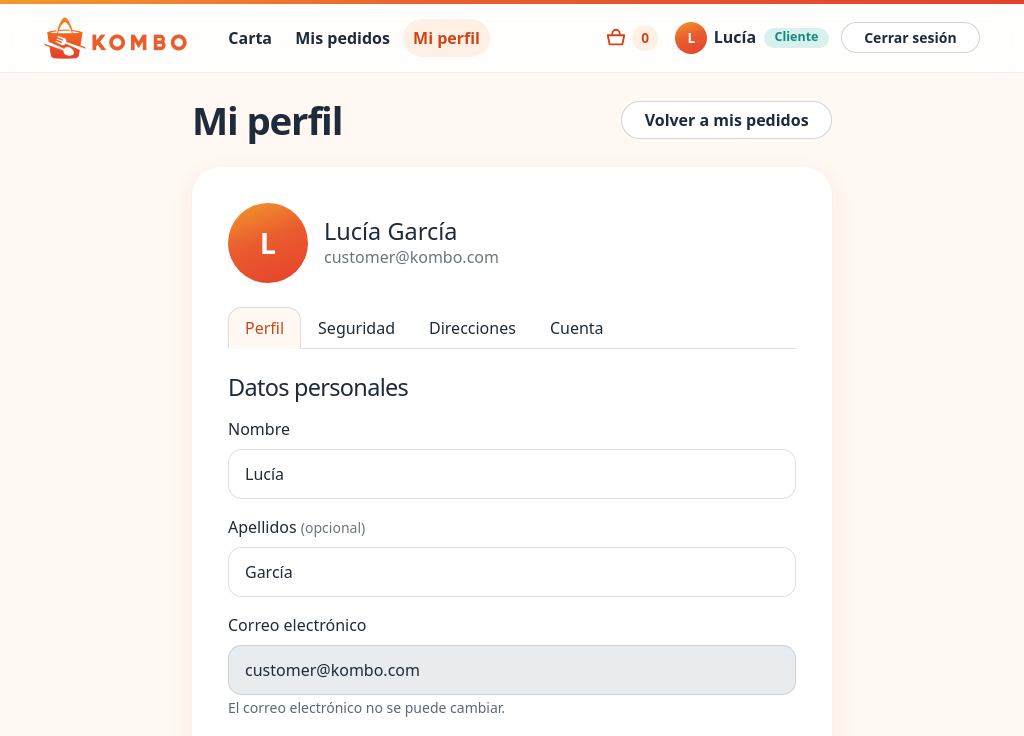
ProfileSettingsPage › shows an error when the data cannot be saved
Replace the text in the field labelled "Nombre" with "Ana" at (512, 474), box [228,449,796,499]
(page scrolled)
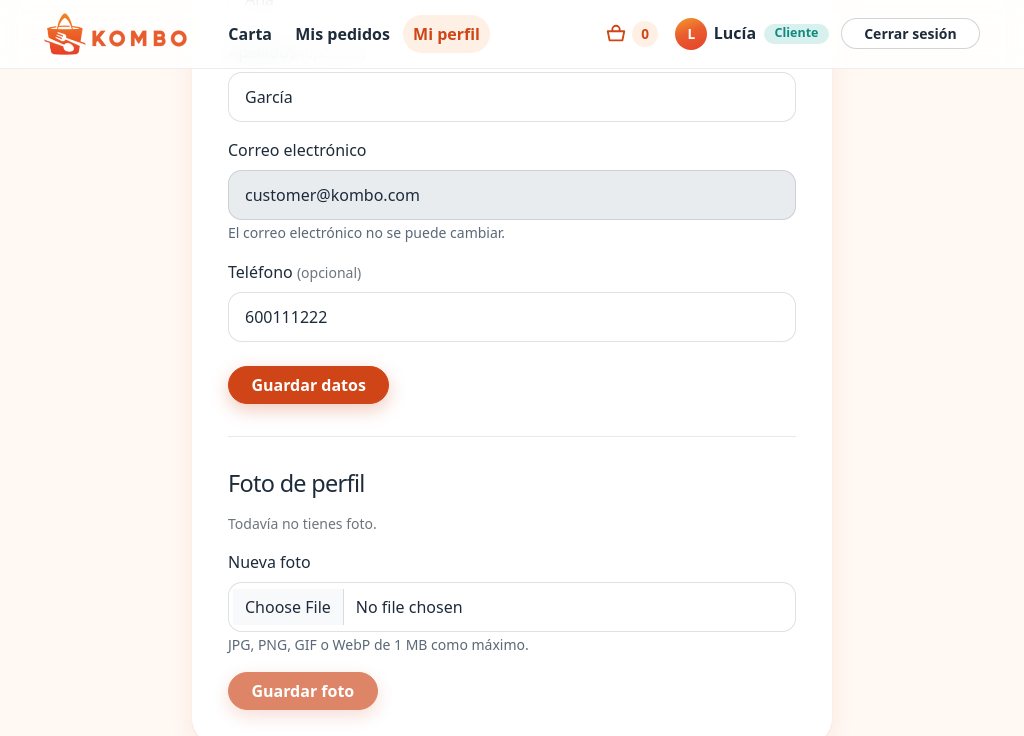
Click the button "Guardar datos" at (309, 385), box [228,366,389,404]
(page scrolled)
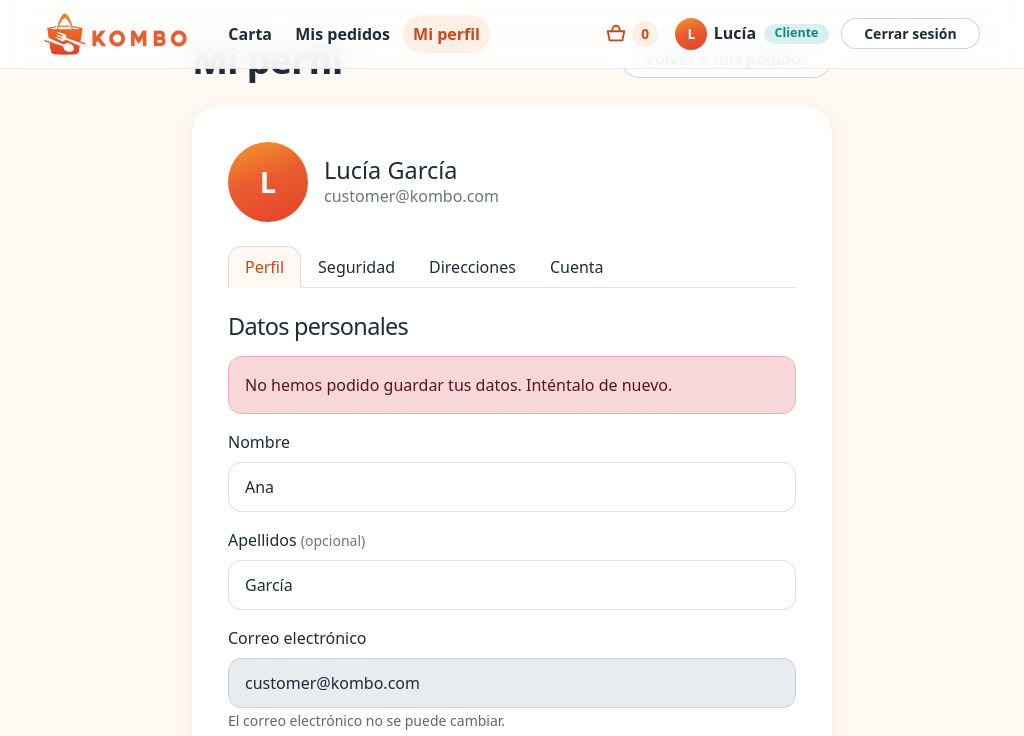
Check: the text "No hemos podido guardar tus datos. Inténtalo de nuevo." is shown, box [228,356,796,414]
